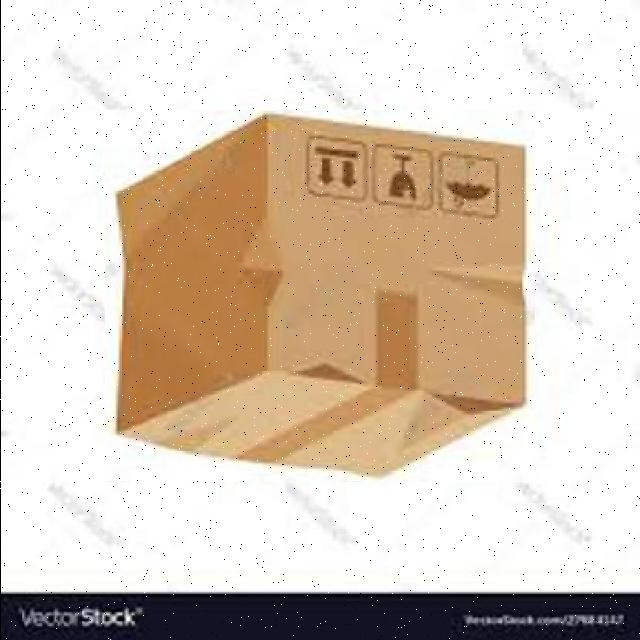defect: (104, 110, 534, 482)
